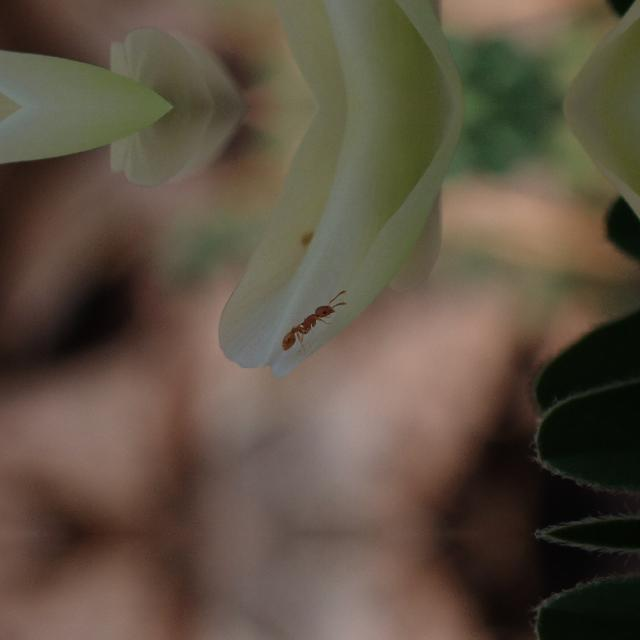Temnothorax: (281, 302, 337, 354)
